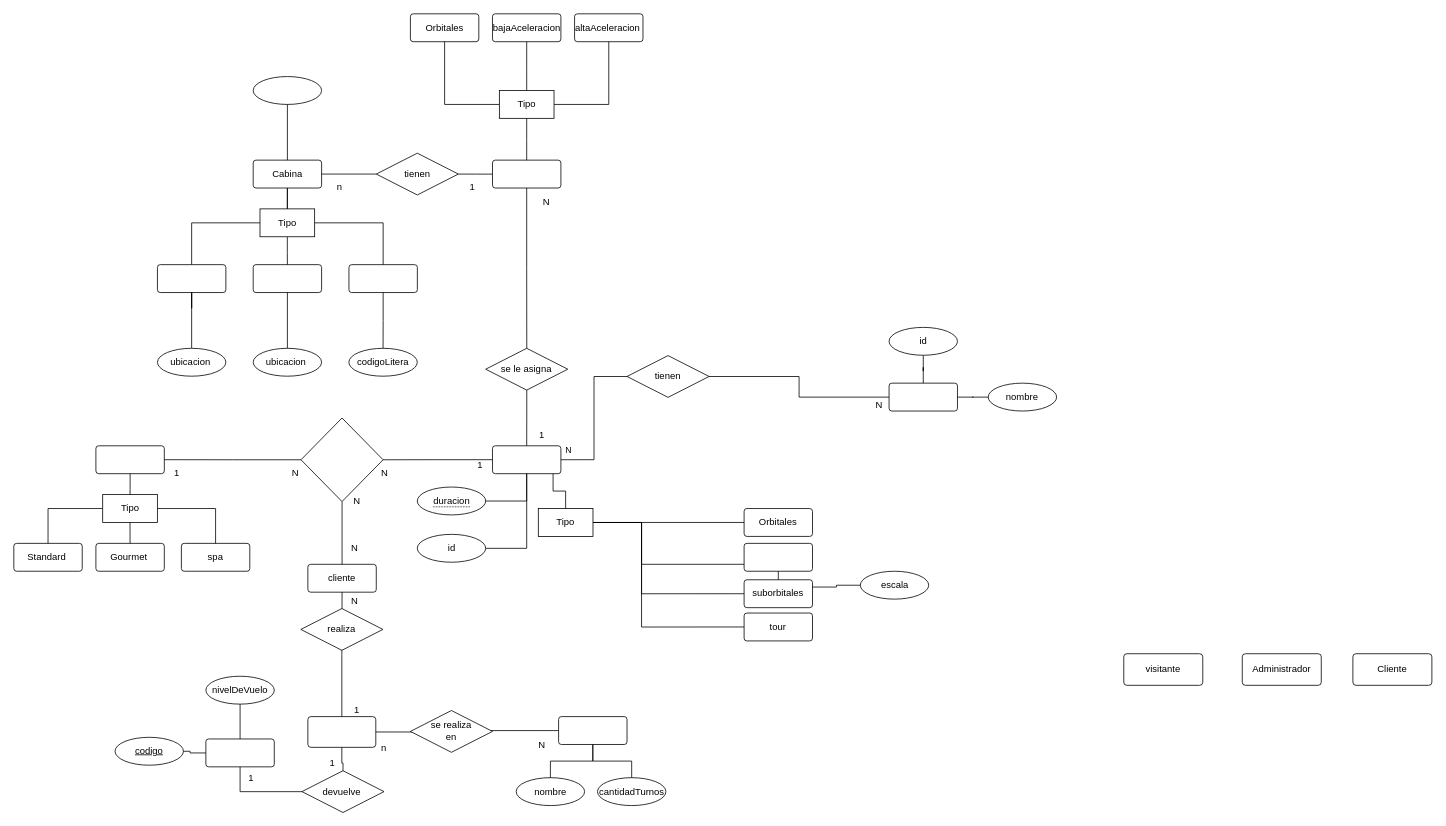
The diagram is 1446 pixels wide and 826 high, and some of its shapes have lost their labels. Here are the shapes that lost their labels. From the top down, the box of each, then its label:
(252, 76, 322, 104): numeroAsiento
(492, 159, 561, 188): Equipos
(157, 264, 226, 293): general
(252, 264, 322, 293): familiar
(348, 264, 417, 293): suite
(888, 382, 957, 411): destinos
(95, 445, 164, 474): Servicio
(300, 417, 383, 502): reserva
(492, 445, 561, 474): vuelo
(743, 543, 813, 571): EntreDestinos
(307, 716, 376, 747): chequeoMedico
(558, 716, 627, 744): centrosMedicos
(205, 738, 274, 767): codigoViajero
